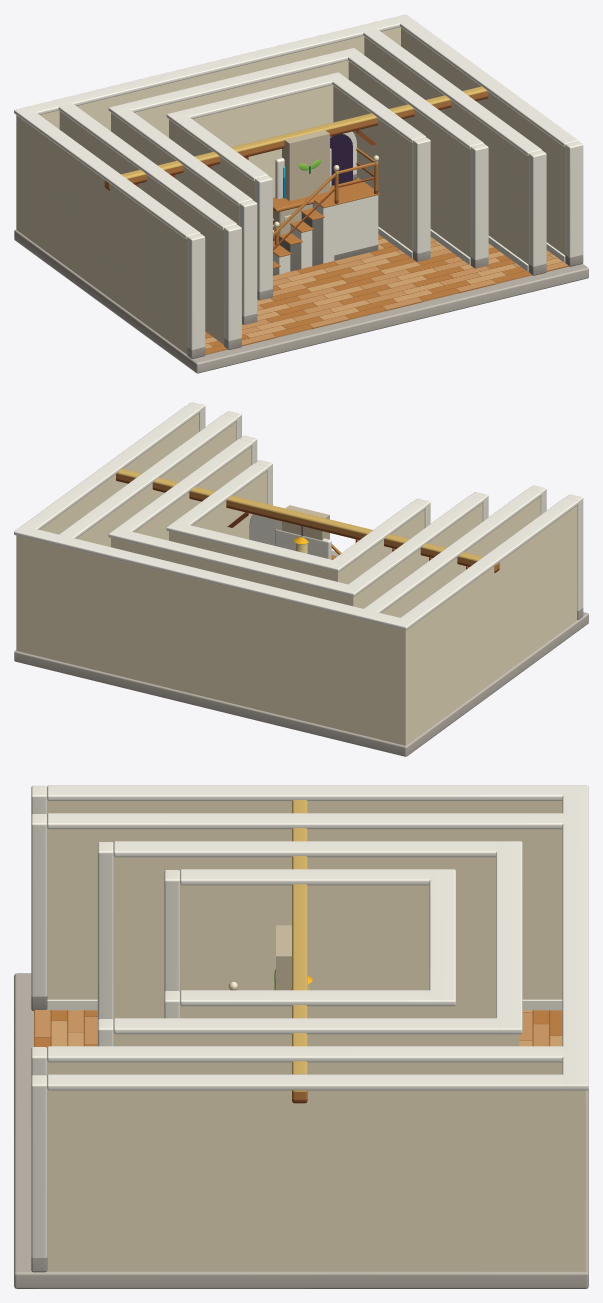
The model's file is kingdom_room_kit.glb.
3 renders of one model, top to bottom at view 1: azimuth 30°, elevation 25°; view 2: azimuth 150°, elevation 25°; view 3: azimuth 270°, elevation 25°, orthographic. The views are drawn at different scales.
Visible parts, largest first — view 1: KR_Room_Manor, KR_Room_Cottage, KR_Room_Cabin, KR_Room_Shed, KR_Stair_Up, KR_Fireplace, KR_Beam_6, KR_Beam_10, KR_Beam_8, KR_Beam_4, KR_Door; view 2: KR_Room_Manor, KR_Room_Cottage, KR_Room_Cabin, KR_Room_Shed, KR_Beam_8, KR_Beam_6, KR_Beam_4, KR_Beam_10, KR_Door, KR_Stair_Up, KR_Fireplace; view 3: KR_Room_Manor, KR_Room_Cottage, KR_Room_Cabin, KR_Room_Shed, KR_Beam_10, KR_Beam_8, KR_Fireplace, KR_Beam_6.
Part boxes in pixels (x1,y1,x2,y2): KR_Room_Manor: (14, 14, 588, 373); KR_Room_Cottage: (52, 23, 550, 363); KR_Room_Cabin: (108, 48, 488, 324); KR_Room_Shed: (166, 72, 430, 300); KR_Stair_Up: (273, 131, 379, 275); KR_Fireplace: (273, 130, 350, 240); KR_Beam_6: (195, 105, 414, 168); KR_Beam_10: (104, 86, 488, 190); KR_Beam_8: (158, 95, 451, 177); KR_Beam_4: (231, 114, 376, 159); KR_Door: (275, 148, 331, 198); KR_Room_Manor: (14, 402, 588, 756); KR_Room_Cottage: (51, 411, 546, 747); KR_Room_Cabin: (108, 435, 488, 608); KR_Room_Shed: (166, 460, 430, 584); KR_Beam_8: (152, 478, 446, 560); KR_Beam_6: (189, 489, 409, 551); KR_Beam_4: (226, 498, 372, 553); KR_Beam_10: (116, 469, 499, 572); KR_Door: (275, 529, 331, 559); KR_Stair_Up: (249, 514, 341, 559); KR_Fireplace: (282, 505, 329, 540); KR_Room_Manor: (14, 785, 588, 1288); KR_Room_Cottage: (14, 813, 588, 1244); KR_Room_Cabin: (97, 841, 522, 1046); KR_Room_Shed: (164, 869, 455, 1018); KR_Beam_10: (292, 800, 307, 1103); KR_Beam_8: (292, 828, 307, 1046); KR_Fireplace: (274, 925, 291, 990); KR_Beam_6: (292, 856, 307, 1017).
Size of the model in its own units: 10.7 by 4.05 by 8.65.
41 materials, 8 textured.
